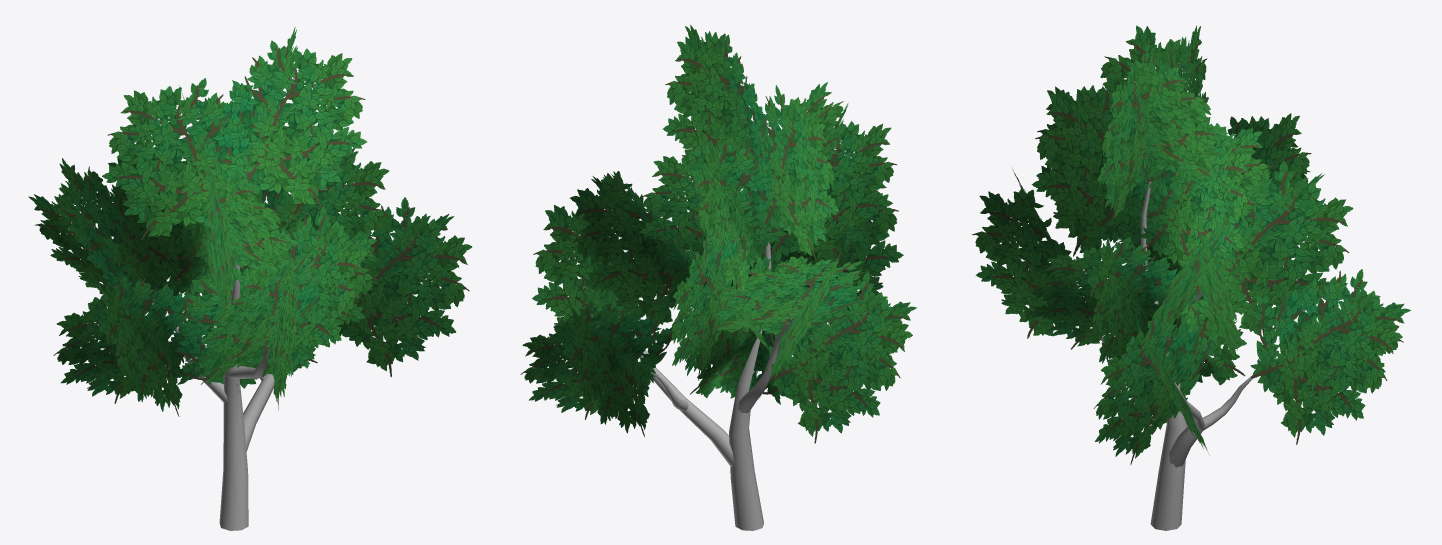
The model's file is Environment_Tree_003_Mesh (1).fbx.
3 renders of one model, left to right at view 1: azimuth 30°, elevation 25°; view 2: azimuth 150°, elevation 25°; view 3: azimuth 270°, elevation 25°, orthographic. The views are drawn at different scales.
Visible parts, largest first — view 1: Environment_Tree_003_Branch_013, Environment_Tree_003_Branch_011, Environment_Tree_003_Branch_002, Environment_Tree_003_Branch_007, Environment_Tree_003_Branch_006, Environment_Tree_003_Branch_001, Environment_Tree_003_Branch_009, Environment_Tree_003_Branch_008, Environment_Tree_003_Trunk_Mesh, Environment_Tree_003_Branch_005, Environment_Tree_003_Branch_010, Environment_Tree_003_Branch_004 (+1 smaller); view 2: Environment_Tree_003_Branch_007, Environment_Tree_003_Branch_003, Environment_Tree_003_Branch_012, Environment_Tree_003_Branch_005, Environment_Tree_003_Branch_011, Environment_Tree_003_Branch_013, Environment_Tree_003_Branch_006, Environment_Tree_003_Branch_008, Environment_Tree_003_Trunk_Mesh, Environment_Tree_003_Branch_004, Environment_Tree_003_Branch_002, Environment_Tree_003_Branch_010 (+1 smaller); view 3: Environment_Tree_003_Branch_003, Environment_Tree_003_Branch_004, Environment_Tree_003_Branch_008, Environment_Tree_003_Branch_013, Environment_Tree_003_Branch_009, Environment_Tree_003_Branch_002, Environment_Tree_003_Branch_012, Environment_Tree_003_Branch_001, Environment_Tree_003_Trunk_Mesh, Environment_Tree_003_Branch_010, Environment_Tree_003_Branch_011, Environment_Tree_003_Branch_005 (+1 smaller).
Boxes of the visible parts, x1,y1,x2,y2 form: Environment_Tree_003_Branch_013: (204,27,366,207); Environment_Tree_003_Branch_011: (102,78,256,240); Environment_Tree_003_Branch_002: (337,197,472,377); Environment_Tree_003_Branch_007: (53,276,211,416); Environment_Tree_003_Branch_006: (28,158,161,319); Environment_Tree_003_Branch_001: (199,250,321,410); Environment_Tree_003_Branch_009: (240,205,377,377); Environment_Tree_003_Branch_008: (202,148,298,309); Environment_Tree_003_Trunk_Mesh: (142,264,274,530); Environment_Tree_003_Branch_005: (243,141,389,291); Environment_Tree_003_Branch_010: (169,239,317,392); Environment_Tree_003_Branch_004: (100,157,222,308); Environment_Tree_003_Branch_007: (761,271,916,443); Environment_Tree_003_Branch_003: (520,301,676,436); Environment_Tree_003_Branch_012: (639,136,794,291); Environment_Tree_003_Branch_005: (569,171,707,326); Environment_Tree_003_Branch_011: (746,82,846,261); Environment_Tree_003_Branch_013: (662,24,782,197); Environment_Tree_003_Branch_006: (709,254,864,385); Environment_Tree_003_Branch_008: (757,102,897,265); Environment_Tree_003_Trunk_Mesh: (628,242,795,530); Environment_Tree_003_Branch_004: (670,228,770,380); Environment_Tree_003_Branch_002: (532,205,637,339); Environment_Tree_003_Branch_010: (690,228,801,404); Environment_Tree_003_Branch_003: (1250,269,1410,444); Environment_Tree_003_Branch_004: (1183,161,1353,335); Environment_Tree_003_Branch_008: (1031,83,1181,256); Environment_Tree_003_Branch_013: (1097,43,1228,224); Environment_Tree_003_Branch_009: (1028,237,1177,370); Environment_Tree_003_Branch_002: (1093,310,1219,465); Environment_Tree_003_Branch_012: (1139,113,1273,295); Environment_Tree_003_Branch_001: (972,168,1089,338); Environment_Tree_003_Trunk_Mesh: (1092,177,1254,530); Environment_Tree_003_Branch_010: (1122,241,1246,389); Environment_Tree_003_Branch_011: (1082,25,1208,197); Environment_Tree_003_Branch_005: (1147,219,1242,351).
Size of the model in its own units: 1045 by 1193 by 1006.
2 materials, 1 textured.
